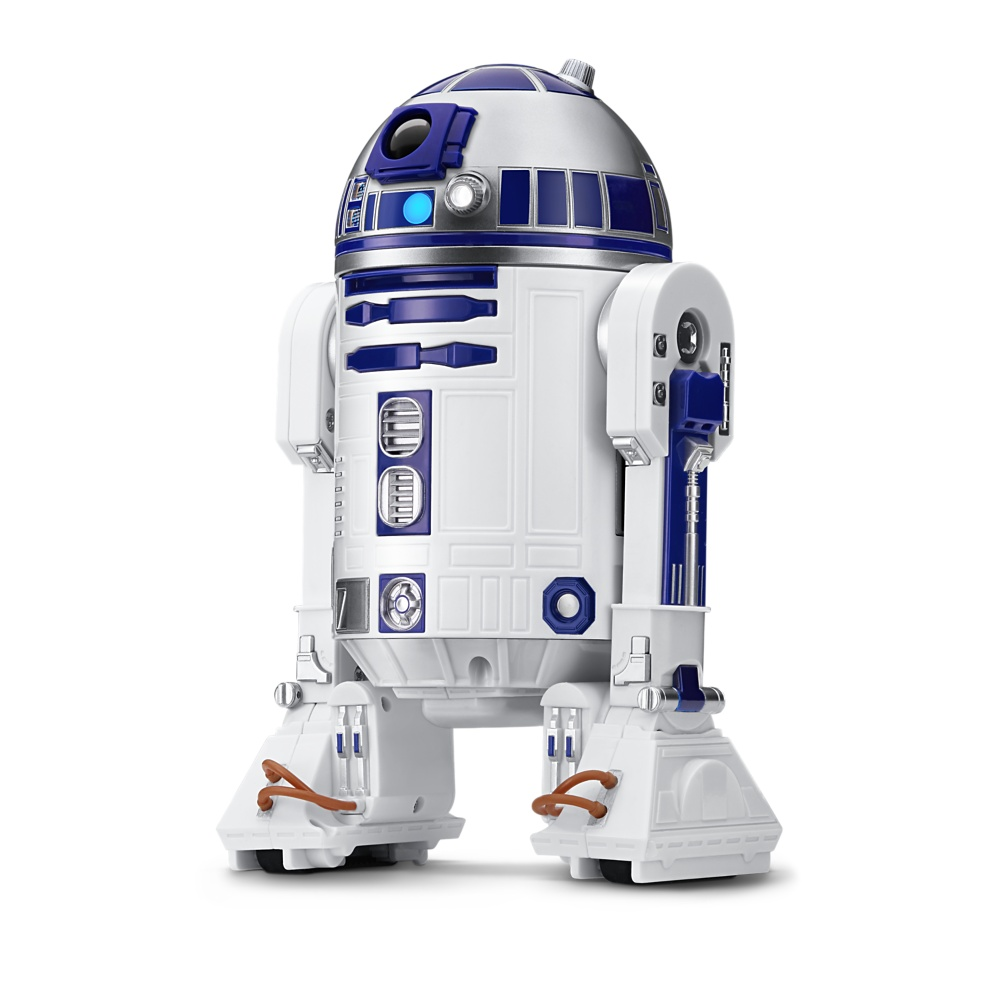r2d2: (219, 60, 781, 888)
